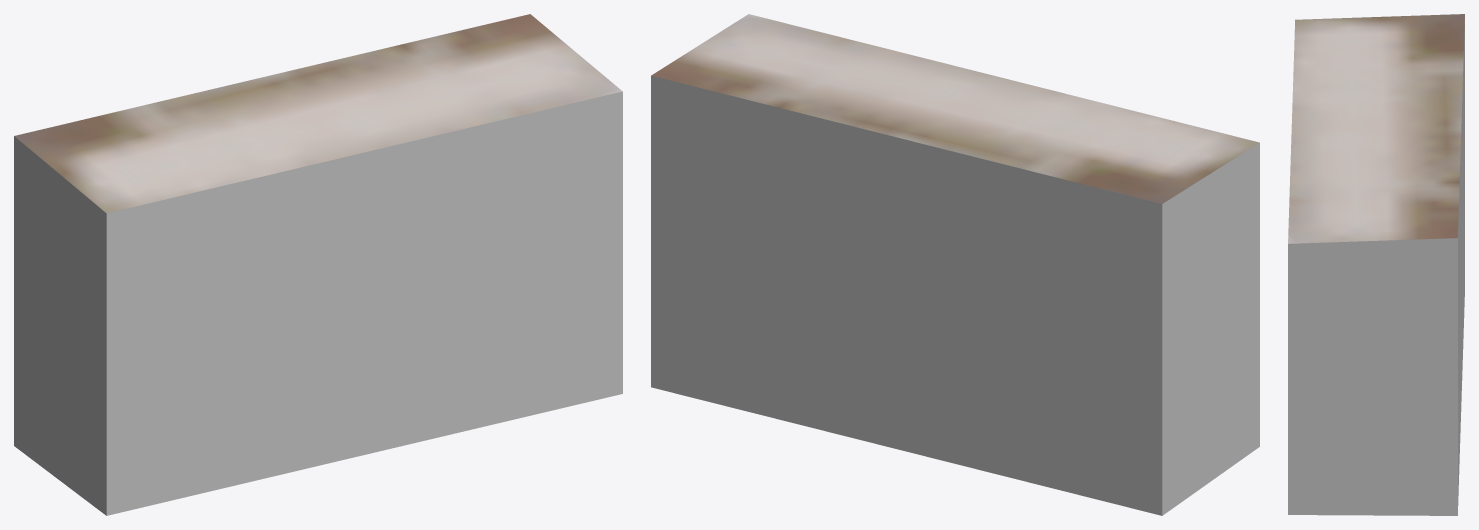
The model's file is DEBW_0010007THZb.gltf.
3 views of the same model, side by side, from view 1: azimuth 30°, elevation 25°; view 2: azimuth 150°, elevation 25°; view 3: azimuth 270°, elevation 25° (orthographic). The views are drawn at different scales.
Parts seen in each view (by area): view 1: Z_UP; view 2: Z_UP; view 3: Z_UP.
Boxes of the visible parts, bbox=[...] form: Z_UP: bbox=[14, 14, 622, 515]; Z_UP: bbox=[651, 14, 1259, 515]; Z_UP: bbox=[1288, 14, 1464, 515].
Size of the model in its own units: 6.71 by 3.86 by 2.23.
Materials: 2 (1 with a texture image).
